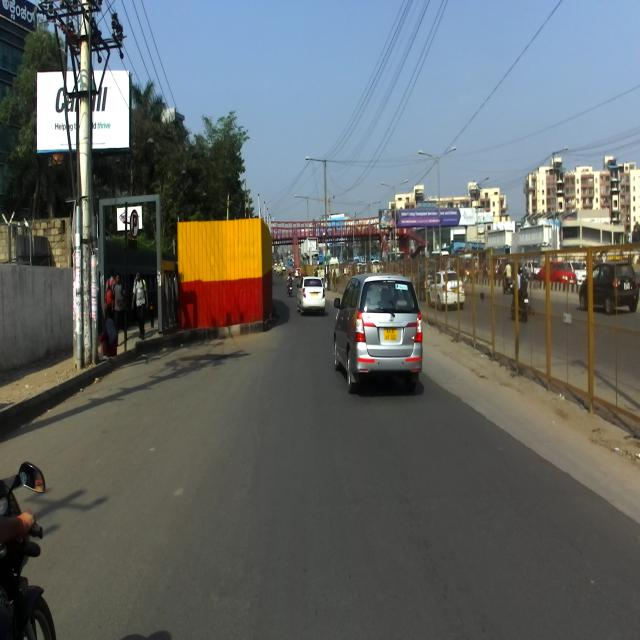car ahead at: (335, 274, 424, 399)
electric pole ahead at: (29, 0, 123, 374)
